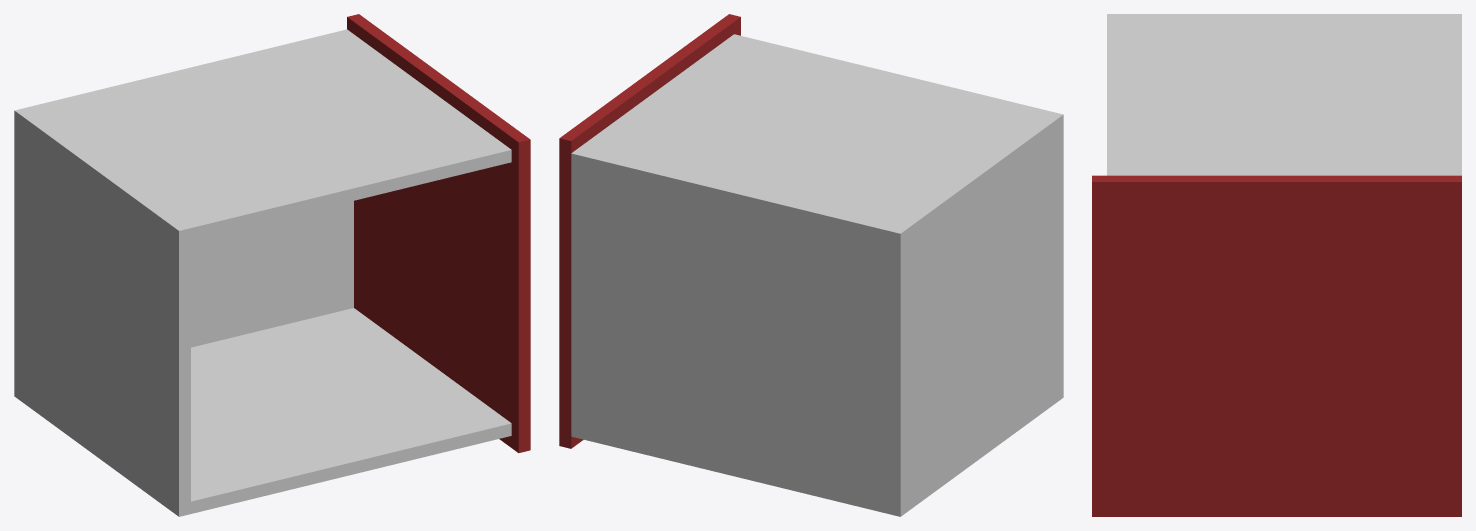
The model's file is MULTIBOX-SHELF-BODYSET8_link_mesh.dae.
3 views of the same model, side by side, from view 1: azimuth 30°, elevation 25°; view 2: azimuth 150°, elevation 25°; view 3: azimuth 270°, elevation 25° (orthographic). The views are drawn at different scales.
Parts seen in each view (by area): view 1: MULTIBOX-SHELF-BODYSET8_link (×2); view 2: MULTIBOX-SHELF-BODYSET8_link (×2); view 3: MULTIBOX-SHELF-BODYSET8_link (×2).
Part boxes in pixels (x1,y1,x2,y2): MULTIBOX-SHELF-BODYSET8_link (×2): (14,14,530,516); MULTIBOX-SHELF-BODYSET8_link (×2): (559,14,1063,516); MULTIBOX-SHELF-BODYSET8_link (×2): (1092,14,1461,516).
Bounding box in the file's own units: 0.29 × 0.25 × 0.25.
